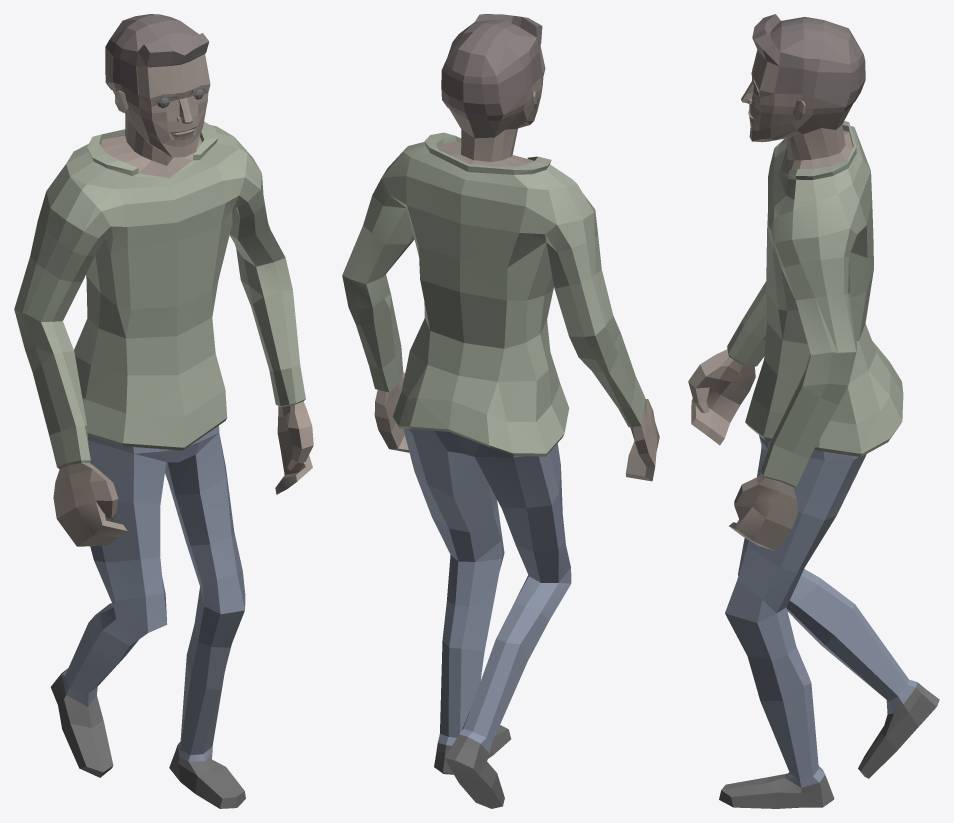
Rendered from walk-6.glb.
3 renders of one model, left to right at view 1: azimuth 30°, elevation 25°; view 2: azimuth 150°, elevation 25°; view 3: azimuth 270°, elevation 25°, orthographic. The views are drawn at different scales.
Parts seen in each view (by area): view 1: BaseHuman_baked; view 2: BaseHuman_baked; view 3: BaseHuman_baked.
Part boxes in pixels (x1=…): BaseHuman_baked: x1=14, y1=14, x2=313, y2=808; BaseHuman_baked: x1=342, y1=14, x2=659, y2=808; BaseHuman_baked: x1=688, y1=14, x2=939, y2=808.
Bounding box in the file's own units: 1.71 × 4.73 × 1.41.
